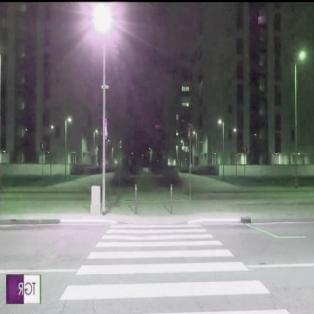Paso de Cebra: (55, 259, 272, 306), (91, 232, 231, 250)
